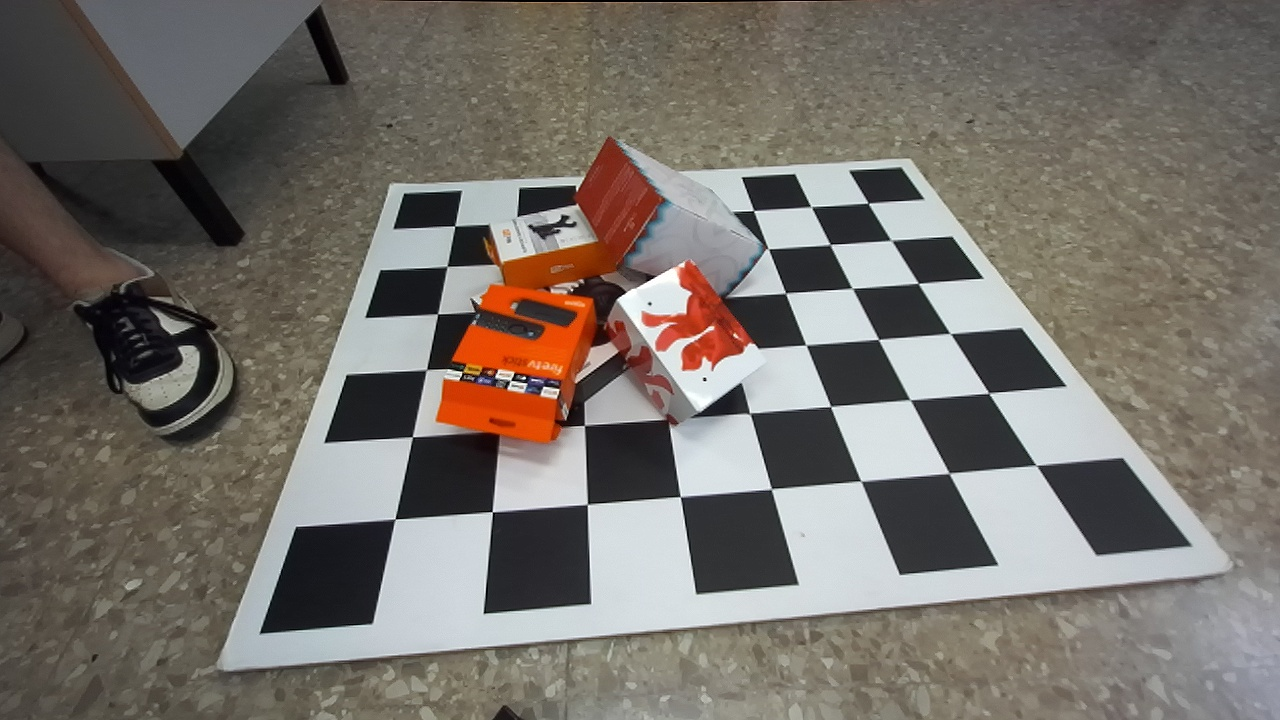caja_busbar: (576, 138, 764, 296)
caja_chasis: (469, 270, 639, 408)
caja_manguera: (436, 282, 597, 444)
caja_pcb: (486, 205, 614, 287)
caja_potencia: (607, 261, 764, 422)
